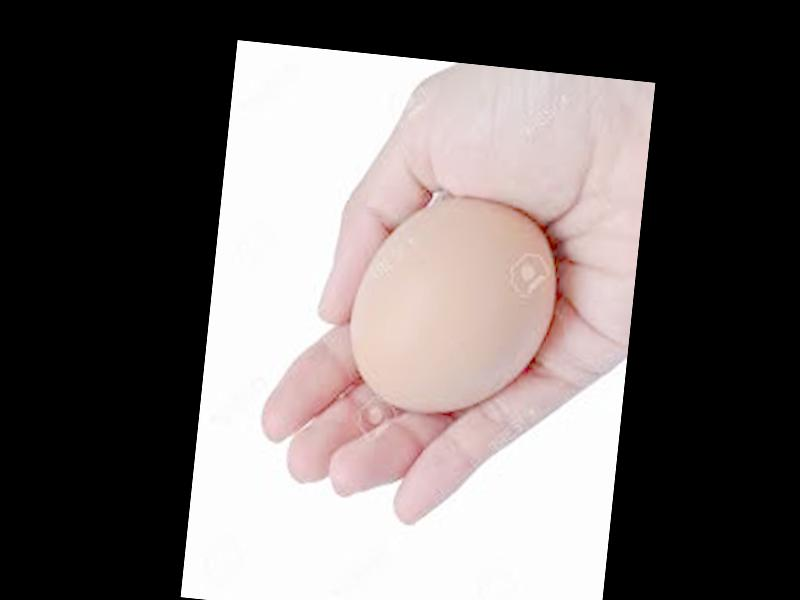Eggs: (342, 186, 561, 424)
